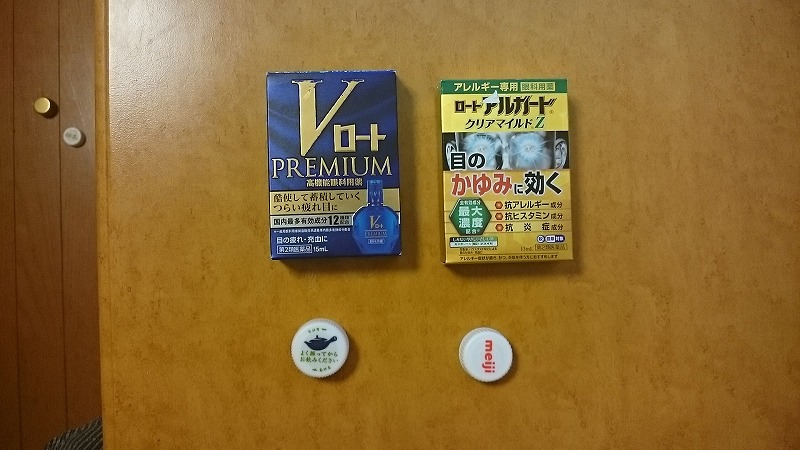A: (286, 310, 358, 382)
B: (456, 326, 519, 384)
C: (434, 76, 584, 271)
D: (259, 67, 408, 268)
